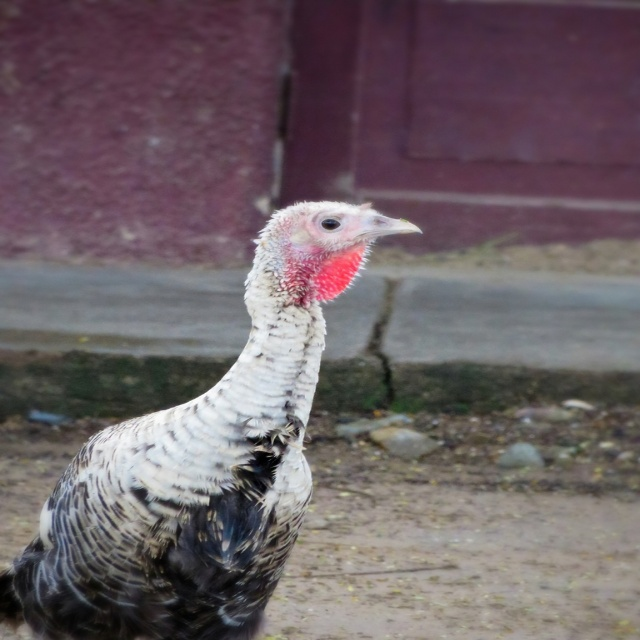Turkey: (0, 199, 423, 640)
